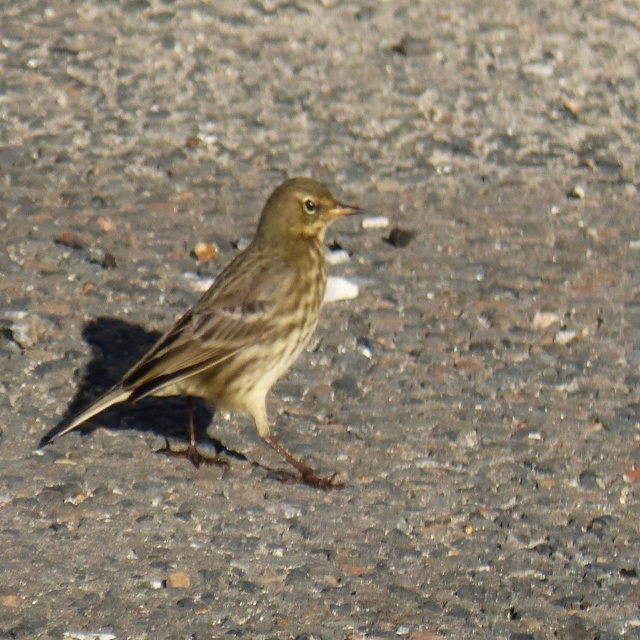Sparrow: (42, 172, 365, 492)
